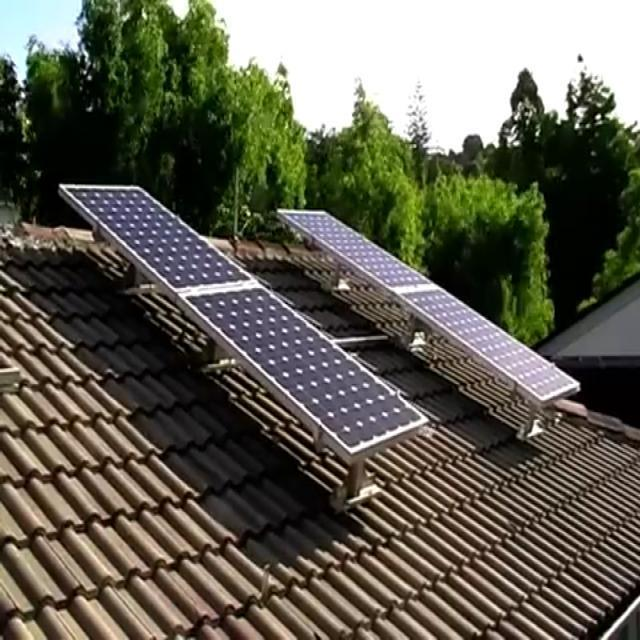Normal Solar Panel: (59, 184, 427, 471), (282, 211, 578, 404)
